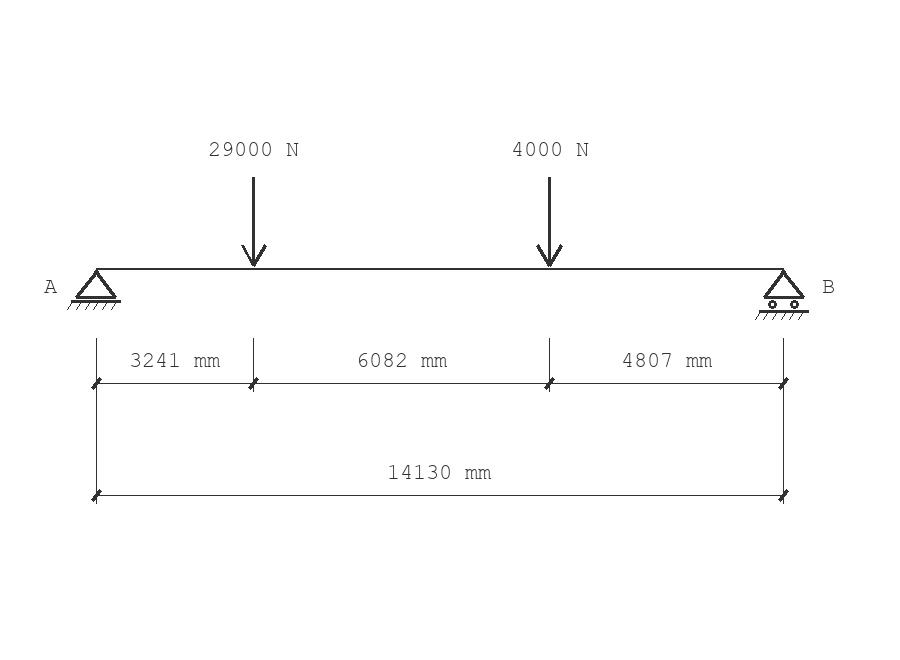pin_support: (67, 270, 121, 310)
point_load: (536, 177, 563, 267), (241, 177, 267, 267)
roller_support: (755, 270, 809, 320)
